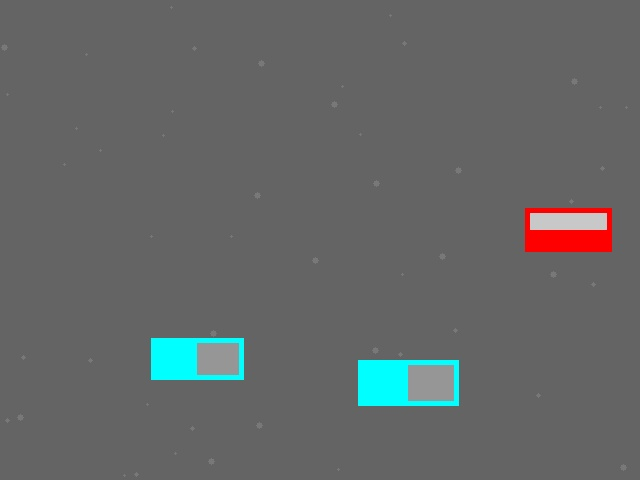car: (525, 208, 611, 251)
truck: (358, 360, 458, 405), (151, 338, 243, 379)
